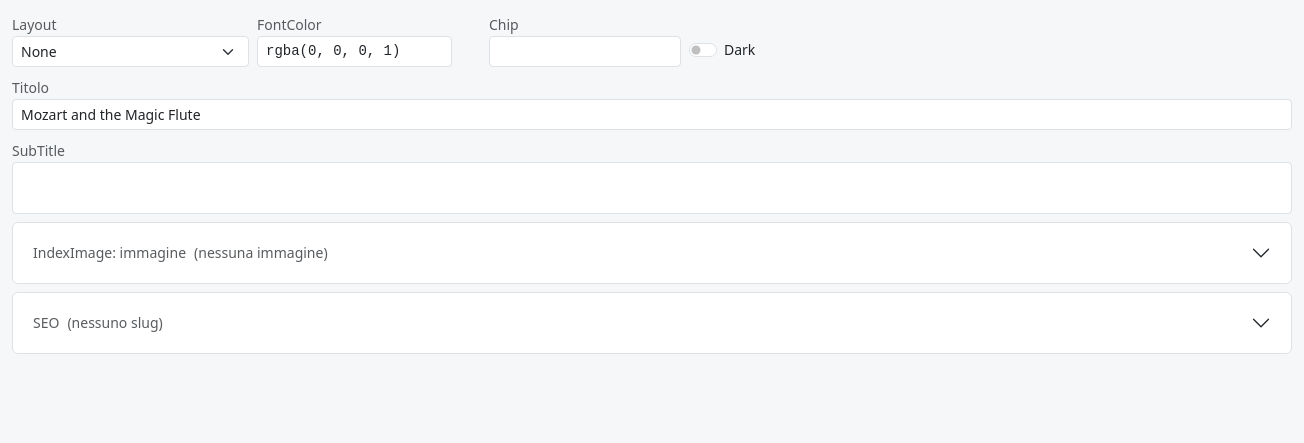
HeaderEditor › Genera da Titolo popola lo slug SEO
The width and height of the screenshot is (1304, 443).
Click the button "SEO (nessuno slug)" at [115, 322], box 13,297 -> 1291,349
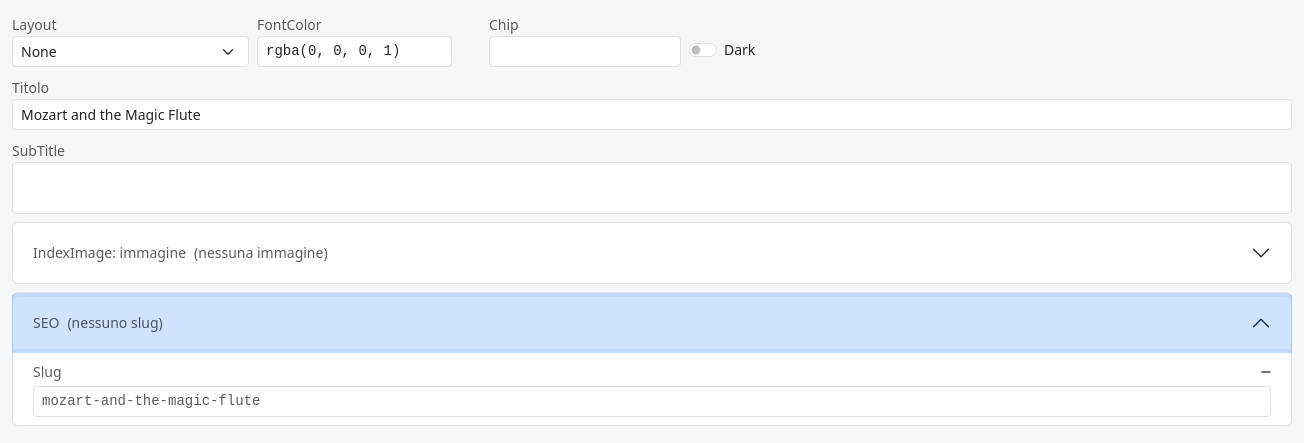
Click the button named "Genera da Titolo" at [1266, 372], box 1261,370 -> 1271,372
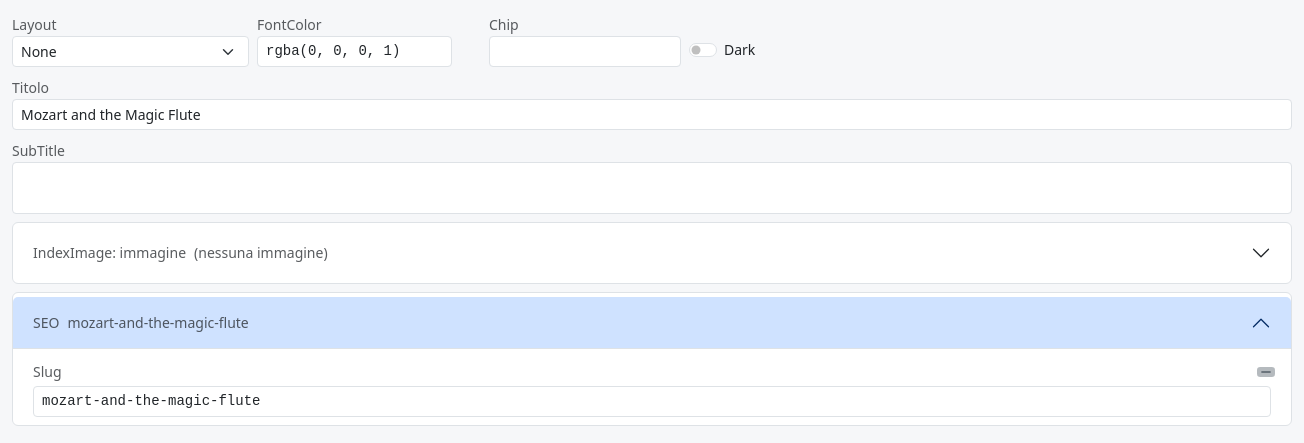
Expected: the field labelled "Slug" holds "mozart-and-the-magic-flute", 33,386 -> 1271,417
